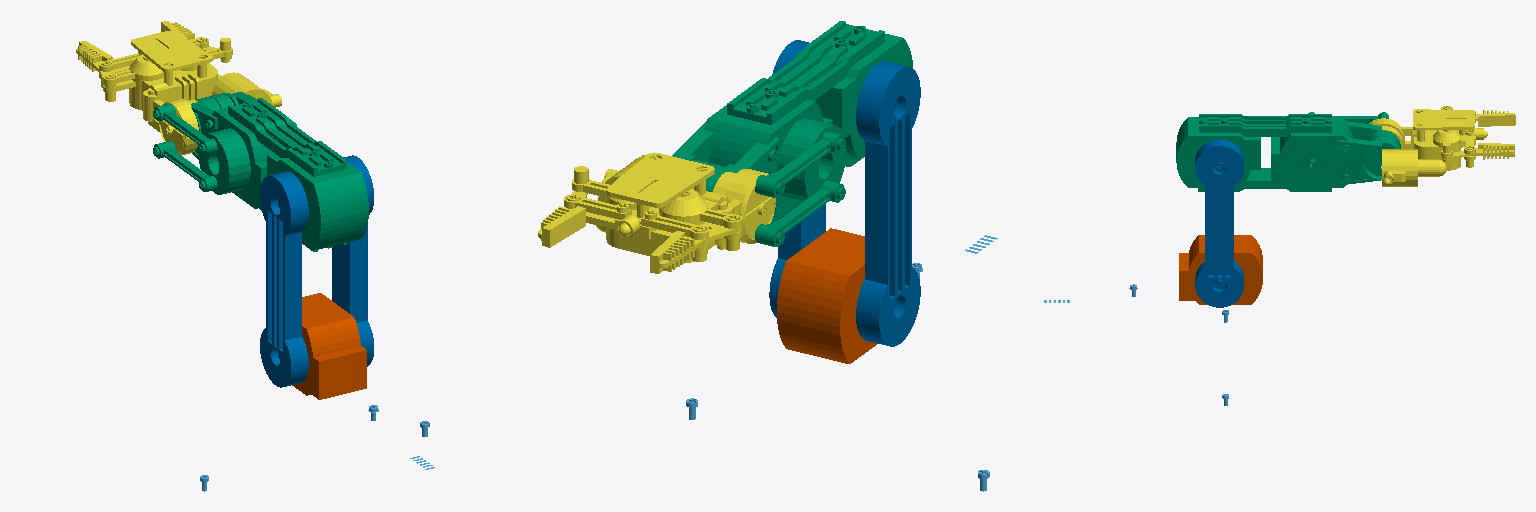
--- Facts derived from the render (not from the file) ---
3 views of the same robot in one strip: view 1: azimuth 30°, elevation 25°; view 2: azimuth 150°, elevation 25°; view 3: azimuth 270°, elevation 25° (orthographic).
Robot: owi535 — 6 links, 5 joints (4 revolute, 1 fixed); root link World; default pose: all joints at 0.
Visible links, largest first — view 1: Elbow, Base, Wrist, Rotation; view 2: Elbow, Wrist, Base, Rotation, Model; view 3: Elbow, Wrist, Base, Rotation.
Boxes of the visible links, left/top/right/bottom form: Elbow: left=153, top=92, right=368, bottom=251; Base: left=260, top=155, right=373, bottom=387; Wrist: left=76, top=21, right=281, bottom=155; Rotation: left=292, top=293, right=366, bottom=399; Elbow: left=672, top=21, right=912, bottom=246; Wrist: left=538, top=152, right=775, bottom=273; Base: left=769, top=40, right=920, bottom=346; Rotation: left=777, top=228, right=876, bottom=363; Model: left=686, top=235, right=997, bottom=491; Elbow: left=1176, top=112, right=1400, bottom=191; Wrist: left=1369, top=106, right=1515, bottom=186; Base: left=1195, top=139, right=1243, bottom=307; Rotation: left=1179, top=235, right=1262, bottom=304.
Size in the robot's own frame: 14.29 by 32.75 by 18.68 metres.
72 mesh visuals loaded from 74 distinct referenced files (72 OBJ); not drawn: 2 (reference not matched to a file when rendering).

robot.urdf — owi535:
<?xml version="1.0" ?>
<robot name="owi535">

   <link name="World"/>
   <link name="Model">
      <visual>
         <origin rpy="0.0 -0.0 0.0" xyz="0.0 0.0 0.0"/>
         <geometry>
            <mesh filename="package://owi_35/urdf/Untitled-mesh.0.obj" scale="0.1 0.1 0.1"/>
         </geometry>
      </visual>
      <collision>
         <origin rpy="0.0 -0.0 0.0" xyz="0.0 0.0 0.0"/>
         <geometry>
            <mesh filename="package://owi_35/urdf/Untitled-mesh.0.obj" scale="0.1 0.1 0.1"/>
         </geometry>
      </collision>
      <visual>
         <origin rpy="0.0 -0.0 0.0" xyz="0.0 0.0 0.0"/>
         <geometry>
            <mesh filename="package://owi_35/urdf/Untitled_001-mesh.0.obj" scale="0.1 0.1 0.1"/>
         </geometry>
      </visual>
      <collision>
         <origin rpy="0.0 -0.0 0.0" xyz="0.0 0.0 0.0"/>
         <geometry>
            <mesh filename="package://owi_35/urdf/Untitled_001-mesh.0.obj" scale="0.1 0.1 0.1"/>
         </geometry>
      </collision>
      <visual>
         <origin rpy="0.0 -0.0 0.0" xyz="0.0 0.0 0.0"/>
         <geometry>
            <mesh filename="package://owi_35/urdf/Untitled_001-mesh.1.obj" scale="0.1 0.1 0.1"/>
         </geometry>
      </visual>
      <collision>
         <origin rpy="0.0 -0.0 0.0" xyz="0.0 0.0 0.0"/>
         <geometry>
            <mesh filename="package://owi_35/urdf/Untitled_001-mesh.1.obj" scale="0.1 0.1 0.1"/>
         </geometry>
      </collision>
      <visual>
         <origin rpy="0.0 -0.0 0.0" xyz="0.0 0.0 0.0"/>
         <geometry>
            <mesh filename="package://owi_35/urdf/Untitled_001-mesh.2.obj" scale="0.1 0.1 0.1"/>
         </geometry>
      </visual>
      <collision>
         <origin rpy="0.0 -0.0 0.0" xyz="0.0 0.0 0.0"/>
         <geometry>
            <mesh filename="package://owi_35/urdf/Untitled_001-mesh.2.obj" scale="0.1 0.1 0.1"/>
         </geometry>
      </collision>
      <visual>
         <origin rpy="0.0 -0.0 0.0" xyz="0.0 0.0 0.0"/>
         <geometry>
            <mesh filename="package://owi_35/urdf/Untitled_001-mesh.3.obj" scale="0.1 0.1 0.1"/>
         </geometry>
      </visual>
      <collision>
         <origin rpy="0.0 -0.0 0.0" xyz="0.0 0.0 0.0"/>
         <geometry>
            <mesh filename="package://owi_35/urdf/Untitled_001-mesh.3.obj" scale="0.1 0.1 0.1"/>
         </geometry>
      </collision>
      <visual>
         <origin rpy="0.0 -0.0 0.0" xyz="0.0 0.0 0.0"/>
         <geometry>
            <mesh filename="package://owi_35/urdf/Untitled_002-mesh.0.obj" scale="0.1 0.1 0.1"/>
         </geometry>
      </visual>
      <collision>
         <origin rpy="0.0 -0.0 0.0" xyz="0.0 0.0 0.0"/>
         <geometry>
            <mesh filename="package://owi_35/urdf/Untitled_002-mesh.0.obj" scale="0.1 0.1 0.1"/>
         </geometry>
      </collision>
      <visual>
         <origin rpy="0.0 -0.0 0.0" xyz="0.0 0.0 0.0"/>
         <geometry>
            <mesh filename="package://owi_35/urdf/Untitled_003-mesh.0.obj" scale="0.1 0.1 0.1"/>
         </geometry>
      </visual>
      <collision>
         <origin rpy="0.0 -0.0 0.0" xyz="0.0 0.0 0.0"/>
         <geometry>
            <mesh filename="package://owi_35/urdf/Untitled_003-mesh.0.obj" scale="0.1 0.1 0.1"/>
         </geometry>
      </collision>
      <inertial>
            <mass value="50" />
            
<inertia ixx="0.001" ixy="0" ixz="0" iyy="0.001" iyz="0" izz="0.001" />      </inertial>
   </link>
   <link name="Elbow">
      <visual>
         <origin rpy="-3.97231980642232e-09 -0.0 0.0" xyz="46.62923049926758 -157.33990478515625 23.237260818481445"/>
         <geometry>
            <mesh filename="package://owi_35/urdf/Untitled_004-mesh.0.obj" scale="0.1 0.1 0.1"/>
         </geometry>
      </visual>
      <collision>
         <origin rpy="-3.97231980642232e-09 -0.0 0.0" xyz="46.62923049926758 -157.33990478515625 23.237260818481445"/>
         <geometry>
            <mesh filename="package://owi_35/urdf/Untitled_004-mesh.0.obj" scale="0.1 0.1 0.1"/>
         </geometry>
      </collision>
      <visual>
         <origin rpy="-3.97231980642232e-09 -0.0 0.0" xyz="46.62923049926758 -157.33990478515625 23.237260818481445"/>
         <geometry>
            <mesh filename="package://owi_35/urdf/Untitled_005-mesh.0.obj" scale="0.1 0.1 0.1"/>
         </geometry>
      </visual>
      <collision>
         <origin rpy="-3.97231980642232e-09 -0.0 0.0" xyz="46.62923049926758 -157.33990478515625 23.237260818481445"/>
         <geometry>
            <mesh filename="package://owi_35/urdf/Untitled_005-mesh.0.obj" scale="0.1 0.1 0.1"/>
         </geometry>
      </collision>
      <visual>
         <origin rpy="-3.97231980642232e-09 -0.0 0.0" xyz="46.62923049926758 -157.33990478515625 23.237260818481445"/>
         <geometry>
            <mesh filename="package://owi_35/urdf/Untitled_006-mesh.0.obj" scale="0.1 0.1 0.1"/>
         </geometry>
      </visual>
      <collision>
         <origin rpy="-3.97231980642232e-09 -0.0 0.0" xyz="46.62923049926758 -157.33990478515625 23.237260818481445"/>
         <geometry>
            <mesh filename="package://owi_35/urdf/Untitled_006-mesh.0.obj" scale="0.1 0.1 0.1"/>
         </geometry>
      </collision>
      <visual>
         <origin rpy="-3.97231980642232e-09 -0.0 0.0" xyz="46.62923049926758 -157.33990478515625 23.237260818481445"/>
         <geometry>
            <mesh filename="package://owi_35/urdf/Untitled_007-mesh.0.obj" scale="0.1 0.1 0.1"/>
         </geometry>
      </visual>
      <collision>
         <origin rpy="-3.97231980642232e-09 -0.0 0.0" xyz="46.62923049926758 -157.33990478515625 23.237260818481445"/>
         <geometry>
            <mesh filename="package://owi_35/urdf/Untitled_007-mesh.0.obj" scale="0.1 0.1 0.1"/>
         </geometry>
      </collision>
      <visual>
         <origin rpy="-3.97231980642232e-09 -0.0 0.0" xyz="46.62923049926758 -157.33990478515625 23.237260818481445"/>
         <geometry>
            <mesh filename="package://owi_35/urdf/Untitled_008-mesh.0.obj" scale="0.1 0.1 0.1"/>
         </geometry>
      </visual>
      <collision>
         <origin rpy="-3.97231980642232e-09 -0.0 0.0" xyz="46.62923049926758 -157.33990478515625 23.237260818481445"/>
         <geometry>
            <mesh filename="package://owi_35/urdf/Untitled_008-mesh.0.obj" scale="0.1 0.1 0.1"/>
         </geometry>
      </collision>
      <visual>
         <origin rpy="-3.97231980642232e-09 -0.0 0.0" xyz="46.62923049926758 -157.33990478515625 23.237260818481445"/>
         <geometry>
            <mesh filename="package://owi_35/urdf/Untitled_009-mesh.0.obj" scale="0.1 0.1 0.1"/>
         </geometry>
      </visual>
      <collision>
         <origin rpy="-3.97231980642232e-09 -0.0 0.0" xyz="46.62923049926758 -157.33990478515625 23.237260818481445"/>
         <geometry>
            <mesh filename="package://owi_35/urdf/Untitled_009-mesh.0.obj" scale="0.1 0.1 0.1"/>
         </geometry>
      </collision>
      <visual>
         <origin rpy="-3.97231980642232e-09 -0.0 0.0" xyz="46.62923049926758 -157.33990478515625 23.237260818481445"/>
         <geometry>
            <mesh filename="package://owi_35/urdf/Untitled_010-mesh.0.obj" scale="0.1 0.1 0.1"/>
         </geometry>
      </visual>
      <collision>
         <origin rpy="-3.97231980642232e-09 -0.0 0.0" xyz="46.62923049926758 -157.33990478515625 23.237260818481445"/>
         <geometry>
            <mesh filename="package://owi_35/urdf/Untitled_010-mesh.0.obj" scale="0.1 0.1 0.1"/>
         </geometry>
      </collision>
      <visual>
         <origin rpy="-3.97231980642232e-09 -0.0 0.0" xyz="46.62923049926758 -157.33990478515625 23.237260818481445"/>
         <geometry>
            <mesh filename="package://owi_35/urdf/Untitled_011-mesh.0.obj" scale="0.1 0.1 0.1"/>
         </geometry>
      </visual>
      <collision>
         <origin rpy="-3.97231980642232e-09 -0.0 0.0" xyz="46.62923049926758 -157.33990478515625 23.237260818481445"/>
         <geometry>
            <mesh filename="package://owi_35/urdf/Untitled_011-mesh.0.obj" scale="0.1 0.1 0.1"/>
         </geometry>
      </collision>
      <visual>
         <origin rpy="-7.94463961284464e-09 -0.0 0.0" xyz="46.62922668457031 -157.33990478515625 23.237262725830078"/>
         <geometry>
            <mesh filename="package://owi_35/urdf/Untitled_040-mesh.0.obj" scale="0.1 0.1 0.1"/>
         </geometry>
      </visual>
      <collision>
         <origin rpy="-7.94463961284464e-09 -0.0 0.0" xyz="46.62922668457031 -157.33990478515625 23.237262725830078"/>
         <geometry>
            <mesh filename="package://owi_35/urdf/Untitled_040-mesh.0.obj" scale="0.1 0.1 0.1"/>
         </geometry>
      </collision>
      <visual>
         <origin rpy="-7.94463961284464e-09 -0.0 0.0" xyz="46.62922668457031 -157.33990478515625 23.237262725830078"/>
         <geometry>
            <mesh filename="package://owi_35/urdf/Untitled_041-mesh.0.obj" scale="0.1 0.1 0.1"/>
         </geometry>
      </visual>
      <collision>
         <origin rpy="-7.94463961284464e-09 -0.0 0.0" xyz="46.62922668457031 -157.33990478515625 23.237262725830078"/>
         <geometry>
            <mesh filename="package://owi_35/urdf/Untitled_041-mesh.0.obj" scale="0.1 0.1 0.1"/>
         </geometry>
      </collision>
      <visual>
         <origin rpy="-7.94463961284464e-09 -0.0 0.0" xyz="46.62922668457031 -157.33990478515625 23.237262725830078"/>
         <geometry>
            <mesh filename="package://owi_35/urdf/Untitled_042-mesh.0.obj" scale="0.1 0.1 0.1"/>
         </geometry>
      </visual>
      <collision>
         <origin rpy="-7.94463961284464e-09 -0.0 0.0" xyz="46.62922668457031 -157.33990478515625 23.237262725830078"/>
         <geometry>
            <mesh filename="package://owi_35/urdf/Untitled_042-mesh.0.obj" scale="0.1 0.1 0.1"/>
         </geometry>
      </collision>
      <visual>
         <origin rpy="-7.94463961284464e-09 -0.0 0.0" xyz="46.62922668457031 -157.33990478515625 23.237262725830078"/>
         <geometry>
            <mesh filename="package://owi_35/urdf/Untitled_043-mesh.0.obj" scale="0.1 0.1 0.1"/>
         </geometry>
      </visual>
      <collision>
         <origin rpy="-7.94463961284464e-09 -0.0 0.0" xyz="46.62922668457031 -157.33990478515625 23.237262725830078"/>
         <geometry>
            <mesh filename="package://owi_35/urdf/Untitled_043-mesh.0.obj" scale="0.1 0.1 0.1"/>
         </geometry>
      </collision>
      <visual>
         <origin rpy="-7.94463961284464e-09 -0.0 0.0" xyz="46.62922668457031 -157.33990478515625 23.237262725830078"/>
         <geometry>
            <mesh filename="package://owi_35/urdf/Untitled_044-mesh.0.obj" scale="0.1 0.1 0.1"/>
         </geometry>
      </visual>
      <collision>
         <origin rpy="-7.94463961284464e-09 -0.0 0.0" xyz="46.62922668457031 -157.33990478515625 23.237262725830078"/>
         <geometry>
            <mesh filename="package://owi_35/urdf/Untitled_044-mesh.0.obj" scale="0.1 0.1 0.1"/>
         </geometry>
      </collision>
      <visual>
         <origin rpy="-7.94463961284464e-09 -0.0 0.0" xyz="46.62922668457031 -157.33990478515625 23.237262725830078"/>
         <geometry>
            <mesh filename="package://owi_35/urdf/Untitled_045-mesh.0.obj" scale="0.1 0.1 0.1"/>
         </geometry>
      </visual>
      <collision>
         <origin rpy="-7.94463961284464e-09 -0.0 0.0" xyz="46.62922668457031 -157.33990478515625 23.237262725830078"/>
         <geometry>
            <mesh filename="package://owi_35/urdf/Untitled_045-mesh.0.obj" scale="0.1 0.1 0.1"/>
         </geometry>
      </collision>
      <visual>
         <origin rpy="-7.94463961284464e-09 -0.0 0.0" xyz="46.62922668457031 -157.33990478515625 23.237262725830078"/>
         <geometry>
            <mesh filename="package://owi_35/urdf/Untitled_046-mesh.0.obj" scale="0.1 0.1 0.1"/>
         </geometry>
      </visual>
      <collision>
         <origin rpy="-7.94463961284464e-09 -0.0 0.0" xyz="46.62922668457031 -157.33990478515625 23.237262725830078"/>
         <geometry>
            <mesh filename="package://owi_35/urdf/Untitled_046-mesh.0.obj" scale="0.1 0.1 0.1"/>
         </geometry>
      </collision>
      <visual>
         <origin rpy="-7.94463961284464e-09 -0.0 0.0" xyz="46.62922668457031 -157.33990478515625 23.237262725830078"/>
         <geometry>
            <mesh filename="package://owi_35/urdf/Untitled_047-mesh.0.obj" scale="0.1 0.1 0.1"/>
         </geometry>
      </visual>
      <collision>
         <origin rpy="-7.94463961284464e-09 -0.0 0.0" xyz="46.62922668457031 -157.33990478515625 23.237262725830078"/>
         <geometry>
            <mesh filename="package://owi_35/urdf/Untitled_047-mesh.0.obj" scale="0.1 0.1 0.1"/>
         </geometry>
      </collision>
      <visual>
         <origin rpy="-7.94463961284464e-09 -0.0 0.0" xyz="46.62922668457031 -157.33990478515625 23.237262725830078"/>
         <geometry>
            <mesh filename="package://owi_35/urdf/Untitled_048-mesh.0.obj" scale="0.1 0.1 0.1"/>
         </geometry>
      </visual>
      <collision>
         <origin rpy="-7.94463961284464e-09 -0.0 0.0" xyz="46.62922668457031 -157.33990478515625 23.237262725830078"/>
         <geometry>
            <mesh filename="package://owi_35/urdf/Untitled_048-mesh.0.obj" scale="0.1 0.1 0.1"/>
         </geometry>
      </collision>
      <visual>
         <origin rpy="-7.94463961284464e-09 -0.0 0.0" xyz="46.62922668457031 -157.33990478515625 23.237262725830078"/>
         <geometry>
            <mesh filename="package://owi_35/urdf/Untitled_049-mesh.0.obj" scale="0.1 0.1 0.1"/>
         </geometry>
      </visual>
      <collision>
         <origin rpy="-7.94463961284464e-09 -0.0 0.0" xyz="46.62922668457031 -157.33990478515625 23.237262725830078"/>
         <geometry>
            <mesh filename="package://owi_35/urdf/Untitled_049-mesh.0.obj" scale="0.1 0.1 0.1"/>
         </geometry>
      </collision>
      <visual>
         <origin rpy="-7.94463961284464e-09 -0.0 0.0" xyz="46.62922668457031 -157.33990478515625 23.237262725830078"/>
         <geometry>
            <mesh filename="package://owi_35/urdf/Untitled_050-mesh.0.obj" scale="0.1 0.1 0.1"/>
         </geometry>
      </visual>
      <collision>
         <origin rpy="-7.94463961284464e-09 -0.0 0.0" xyz="46.62922668457031 -157.33990478515625 23.237262725830078"/>
         <geometry>
            <mesh filename="package://owi_35/urdf/Untitled_050-mesh.0.obj" scale="0.1 0.1 0.1"/>
         </geometry>
      </collision>
      <visual>
         <origin rpy="-7.94463961284464e-09 -0.0 0.0" xyz="46.62922668457031 -157.33990478515625 23.237262725830078"/>
         <geometry>
            <mesh filename="package://owi_35/urdf/Untitled_051-mesh.0.obj" scale="0.1 0.1 0.1"/>
         </geometry>
      </visual>
      <collision>
         <origin rpy="-7.94463961284464e-09 -0.0 0.0" xyz="46.62922668457031 -157.33990478515625 23.237262725830078"/>
         <geometry>
            <mesh filename="package://owi_35/urdf/Untitled_051-mesh.0.obj" scale="0.1 0.1 0.1"/>
         </geometry>
      </collision>
      <visual>
         <origin rpy="-7.94463961284464e-09 -0.0 0.0" xyz="46.62922668457031 -157.33990478515625 23.237262725830078"/>
         <geometry>
            <mesh filename="package://owi_35/urdf/Untitled_052-mesh.0.obj" scale="0.1 0.1 0.1"/>
         </geometry>
      </visual>
      <collision>
         <origin rpy="-7.94463961284464e-09 -0.0 0.0" xyz="46.62922668457031 -157.33990478515625 23.237262725830078"/>
         <geometry>
            <mesh filename="package://owi_35/urdf/Untitled_052-mesh.0.obj" scale="0.1 0.1 0.1"/>
         </geometry>
      </collision>
      <visual>
         <origin rpy="-7.94463961284464e-09 -0.0 0.0" xyz="46.62922668457031 -157.33990478515625 23.237262725830078"/>
         <geometry>
            <mesh filename="package://owi_35/urdf/Untitled_053-mesh.0.obj" scale="0.1 0.1 0.1"/>
         </geometry>
      </visual>
      <collision>
         <origin rpy="-7.94463961284464e-09 -0.0 0.0" xyz="46.62922668457031 -157.33990478515625 23.237262725830078"/>
         <geometry>
            <mesh filename="package://owi_35/urdf/Untitled_053-mesh.0.obj" scale="0.1 0.1 0.1"/>
         </geometry>
      </collision>
      <visual>
         <origin rpy="-7.94463961284464e-09 -0.0 0.0" xyz="46.62922668457031 -157.33990478515625 23.237262725830078"/>
         <geometry>
            <mesh filename="package://owi_35/urdf/Untitled_054-mesh.0.obj" scale="0.1 0.1 0.1"/>
         </geometry>
      </visual>
      <collision>
         <origin rpy="-7.94463961284464e-09 -0.0 0.0" xyz="46.62922668457031 -157.33990478515625 23.237262725830078"/>
         <geometry>
            <mesh filename="package://owi_35/urdf/Untitled_054-mesh.0.obj" scale="0.1 0.1 0.1"/>
         </geometry>
      </collision>
      <visual>
         <origin rpy="-7.94463961284464e-09 -0.0 0.0" xyz="46.62922668457031 -157.33990478515625 23.237262725830078"/>
         <geometry>
            <mesh filename="package://owi_35/urdf/Untitled_055-mesh.0.obj" scale="0.1 0.1 0.1"/>
         </geometry>
      </visual>
      <collision>
         <origin rpy="-7.94463961284464e-09 -0.0 0.0" xyz="46.62922668457031 -157.33990478515625 23.237262725830078"/>
         <geometry>
            <mesh filename="package://owi_35/urdf/Untitled_055-mesh.0.obj" scale="0.1 0.1 0.1"/>
         </geometry>
      </collision>
      <visual>
         <origin rpy="-7.94463961284464e-09 -0.0 0.0" xyz="46.62922668457031 -157.33990478515625 23.237262725830078" />
         <geometry>
            <mesh filename="package://owi_35/urdf/Untitled_056-mesh.0.obj" scale="0.1 0.1 0.1"/>
         </geometry>
      </visual>
      <collision>
         <origin rpy="-7.94463961284464e-09 -0.0 0.0" xyz="46.62922668457031 -157.33990478515625 23.237262725830078"/>
         <geometry>
            <mesh filename="package://owi_35/urdf/Untitled_056-mesh.0.obj" scale="0.1 0.1 0.1"/>
         </geometry>
      </collision>
      <visual>
         <origin rpy="-7.94463961284464e-09 -0.0 0.0" xyz="46.62922668457031 -157.33990478515625 23.237262725830078"/>
         <geometry>
            <mesh filename="package://owi_35/urdf/Untitled_057-mesh.0.obj" scale="0.1 0.1 0.1"/>
         </geometry>
      </visual>
      <collision>
         <origin rpy="-7.94463961284464e-09 -0.0 0.0" xyz="46.62922668457031 -157.33990478515625 23.237262725830078"/>
         <geometry>
            <mesh filename="package://owi_35/urdf/Untitled_057-mesh.0.obj" scale="0.1 0.1 0.1"/>
         </geometry>
      </collision>
      <inertial>
            <mass value="5" />
            
<inertia ixx="0.001" ixy="0" ixz="0" iyy="0.001" iyz="0" izz="0.001" />       </inertial>
   </link>
   <link name="Wrist">
      <visual>
         <origin rpy="4.371139894487894e-08 -0.0 0.0" xyz="45.20729064941406 -156.94960021972656 136.8153076171875"/>
         <geometry>
            <mesh filename="package://owi_35/urdf/Untitled_012-mesh.0.obj" scale="0.1 0.1 0.1"/>
         </geometry>
      </visual>
      <collision>
         <origin rpy="4.371139894487894e-08 -0.0 0.0" xyz="45.20729064941406 -156.94960021972656 136.8153076171875"/>
         <geometry>
            <mesh filename="package://owi_35/urdf/Untitled_012-mesh.0.obj" scale="0.1 0.1 0.1"/>
         </geometry>
      </collision>
      <visual>
         <origin rpy="4.371139894487894e-08 -0.0 0.0" xyz="45.20729064941406 -156.94960021972656 136.8153076171875"/>
         <geometry>
            <mesh filename="package://owi_35/urdf/Untitled_013-mesh.0.obj" scale="0.1 0.1 0.1"/>
         </geometry>
      </visual>
      <collision>
         <origin rpy="4.371139894487894e-08 -0.0 0.0" xyz="45.20729064941406 -156.94960021972656 136.8153076171875"/>
         <geometry>
            <mesh filename="package://owi_35/urdf/Untitled_013-mesh.0.obj" scale="0.1 0.1 0.1"/>
         </geometry>
      </collision>
      <visual>
         <origin rpy="4.371139894487894e-08 -0.0 0.0" xyz="45.20729064941406 -156.94960021972656 136.8153076171875"/>
         <geometry>
            <mesh filename="package://owi_35/urdf/Untitled_014-mesh.0.obj" scale="0.1 0.1 0.1"/>
         </geometry>
      </visual>
      <collision>
         <origin rpy="4.371139894487894e-08 -0.0 0.0" xyz="45.20729064941406 -156.94960021972656 136.8153076171875"/>
         <geometry>
            <mesh filename="package://owi_35/urdf/Untitled_014-mesh.0.obj" scale="0.1 0.1 0.1"/>
         </geometry>
      </collision>
      <visual>
         <origin rpy="4.371139894487894e-08 -0.0 0.0" xyz="45.20729064941406 -156.94960021972656 136.8153076171875"/>
         <geometry>
            <mesh filename="package://owi_35/urdf/Untitled_015-mesh.0.obj" scale="0.1 0.1 0.1"/>
         </geometry>
      </visual>
      <collision>
         <origin rpy="4.371139894487894e-08 -0.0 0.0" xyz="45.20729064941406 -156.94960021972656 136.8153076171875"/>
         <geometry>
            <mesh filename="package://owi_35/urdf/Untitled_015-mesh.0.obj" scale="0.1 0.1 0.1"/>
         </geometry>
      </collision>
      <visual>
         <origin rpy="4.371139894487894e-08 -0.0 0.0" xyz="45.20729064941406 -156.94960021972656 136.8153076171875"/>
         <geometry>
            <mesh filename="package://owi_35/urdf/Untitled_016-mesh.0.obj" scale="0.1 0.1 0.1"/>
         </geometry>
      </visual>
      <collision>
         <origin rpy="4.371139894487894e-08 -0.0 0.0" xyz="45.20729064941406 -156.94960021972656 136.8153076171875"/>
         <geometry>
            <mesh filename="package://owi_35/urdf/Untitled_016-mesh.0.obj" scale="0.1 0.1 0.1"/>
         </geometry>
      </collision>
      <visual>
         <origin rpy="4.371139894487894e-08 -0.0 0.0" xyz="45.20729064941406 -156.94960021972656 136.8153076171875"/>
         <geometry>
            <mesh filename="package://owi_35/urdf/Untitled_017-mesh.0.obj" scale="0.1 0.1 0.1"/>
         </geometry>
      </visual>
      <collision>
         <origin rpy="4.371139894487894e-08 -0.0 0.0" xyz="45.20729064941406 -156.94960021972656 136.8153076171875"/>
         <geometry>
            <mesh filename="package://owi_35/urdf/Untitled_017-mesh.0.obj" scale="0.1 0.1 0.1"/>
         </geometry>
      </collision>
      <visual>
         <origin rpy="4.371139894487894e-08 -0.0 0.0" xyz="45.20729064941406 -156.94960021972656 136.8153076171875"/>
         <geometry>
            <mesh filename="package://owi_35/urdf/Untitled_018-mesh.0.obj" scale="0.1 0.1 0.1"/>
         </geometry>
      </visual>
      <collision>
         <origin rpy="4.371139894487894e-08 -0.0 0.0" xyz="45.20729064941406 -156.94960021972656 136.8153076171875"/>
         <geometry>
            <mesh filename="package://owi_35/urdf/Untitled_018-mesh.0.obj" scale="0.1 0.1 0.1"/>
         </geometry>
      </collision>
      <visual>
         <origin rpy="4.371139894487894e-08 -0.0 0.0" xyz="45.20729064941406 -156.94960021972656 136.8153076171875"/>
         <geometry>
            <mesh filename="package://owi_35/urdf/Untitled_019-mesh.0.obj" scale="0.1 0.1 0.1"/>
         </geometry>
      </visual>
      <collision>
         <origin rpy="4.371139894487894e-08 -0.0 0.0" xyz="45.20729064941406 -156.94960021972656 136.8153076171875"/>
         <geometry>
            <mesh filename="package://owi_35/urdf/Untitled_019-mesh.0.obj" scale="0.1 0.1 0.1"/>
         </geometry>
      </collision>
      <visual>
         <origin rpy="4.371139894487894e-08 -0.0 0.0" xyz="45.20729064941406 -156.94960021972656 136.8153076171875"/>
         <geometry>
            <mesh filename="package://owi_35/urdf/Untitled_019-mesh.1.obj" scale="0.1 0.1 0.1"/>
         </geometry>
      </visual>
      <collision>
         <origin rpy="4.371139894487894e-08 -0.0 0.0" xyz="45.20729064941406 -156.94960021972656 136.8153076171875"/>
         <geometry>
            <mesh filename="package://owi_35/urdf/Untitled_019-mesh.1.obj" scale="0.1 0.1 0.1"/>
         </geometry>
      </collision>
      <visual>
         <origin rpy="4.371139894487894e-08 -0.0 0.0" xyz="45.20729064941406 -156.94960021972656 136.8153076171875"/>
         <geometry>
            <mesh filename="package://owi_35/urdf/Untitled_019-mesh.2.obj" scale="0.1 0.1 0.1"/>
         </geometry>
      </visual>
      <collision>
         <origin rpy="4.371139894487894e-08 -0.0 0.0" xyz="45.20729064941406 -156.94960021972656 136.8153076171875"/>
         <geometry>
            <mesh filename="package://owi_35/urdf/Untitled_019-mesh.2.obj" scale="0.1 0.1 0.1"/>
         </geometry>
      </collision>
      <visual>
         <origin rpy="4.371139894487894e-08 -0.0 0.0" xyz="45.20729064941406 -156.94960021972656 136.8153076171875"/>
         <geometry>
            <mesh filename="package://owi_35/urdf/Untitled_020-mesh.0.obj" scale="0.1 0.1 0.1"/>
         </geometry>
      </visual>
      <collision>
         <origin rpy="4.371139894487894e-08 -0.0 0.0" xyz="45.20729064941406 -156.94960021972656 136.8153076171875"/>
         <geometry>
            <mesh filename="package://owi_35/urdf/Untitled_020-mesh.0.obj" scale="0.1 0.1 0.1"/>
         </geometry>
      </collision>
      <visual>
         <origin rpy="4.371139894487894e-08 -0.0 0.0" xyz="45.20729064941406 -156.94960021972656 136.8153076171875"/>
         <geometry>
            <mesh filename="package://owi_35/urdf/Untitled_021-mesh.0.obj" scale="0.1 0.1 0.1"/>
         </geometry>
      </visual>
      <collision>
         <origin rpy="4.371139894487894e-08 -0.0 0.0" xyz="45.20729064941406 -156.94960021972656 136.8153076171875"/>
         <geometry>
            <mesh filename="package://owi_35/urdf/Untitled_021-mesh.0.obj" scale="0.1 0.1 0.1"/>
         </geometry>
      </collision>
      <visual>
         <origin rpy="4.371139894487894e-08 -0.0 0.0" xyz="45.20729064941406 -156.94960021972656 136.8153076171875"/>
         <geometry>
            <mesh filename="package://owi_35/urdf/Untitled_022-mesh.0.obj" scale="0.1 0.1 0.1"/>
         </geometry>
      </visual>
      <collision>
         <origin rpy="4.371139894487894e-08 -0.0 0.0" xyz="45.20729064941406 -156.94960021972656 136.8153076171875"/>
         <geometry>
            <mesh filename="package://owi_35/urdf/Untitled_022-mesh.0.obj" scale="0.1 0.1 0.1"/>
         </geometry>
      </collision>
      <visual>
         <origin rpy="4.371139894487894e-08 -0.0 0.0" xyz="45.20729064941406 -156.94960021972656 136.8153076171875"/>
         <geometry>
            <mesh filename="package://owi_35/urdf/Untitled_022-mesh.1.obj" scale="0.1 0.1 0.1"/>
         </geometry>
      </visual>
      <collision>
         <origin rpy="4.371139894487894e-08 -0.0 0.0" xyz="45.20729064941406 -156.94960021972656 136.8153076171875"/>
         <geometry>
            <mesh filename="package://owi_35/urdf/Untitled_022-mesh.1.obj" scale="0.1 0.1 0.1"/>
         </geometry>
      </collision>
      <visual>
         <origin rpy="4.371139894487894e-08 -0.0 0.0" xyz="45.20729064941406 -156.94960021972656 136.8153076171875"/>
         <geometry>
            <mesh filename="package://owi_35/urdf/Untitled_022-mesh.2.obj" scale="0.1 0.1 0.1"/>
         </geometry>
      </visual>
      <collision>
         <origin rpy="4.371139894487894e-08 -0.0 0.0" xyz="45.20729064941406 -156.94960021972656 136.8153076171875"/>
         <geometry>
            <mesh filename="package://owi_35/urdf/Untitled_022-mesh.2.obj" scale="0.1 0.1 0.1"/>
         </geometry>
      </collision>
      <visual>
         <origin rpy="4.371139894487894e-08 -0.0 0.0" xyz="45.20729064941406 -156.94960021972656 136.8153076171875"/>
         <geometry>
            <mesh filename="package://owi_35/urdf/Untitled_023-mesh.0.obj" scale="0.1 0.1 0.1"/>
         </geometry>
      </visual>
      <collision>
         <origin rpy="4.371139894487894e-08 -0.0 0.0" xyz="45.20729064941406 -156.94960021972656 136.8153076171875"/>
         <geometry>
            <mesh filename="package://owi_35/urdf/Untitled_023-mesh.0.obj" scale="0.1 0.1 0.1"/>
         </geometry>
      </collision>
      <visual>
         <origin rpy="4.371139894487894e-08 -0.0 0.0" xyz="45.20729064941406 -156.94960021972656 136.8153076171875"/>
         <geometry>
            <mesh filename="package://owi_35/urdf/Untitled_024-mesh.0.obj" scale="0.1 0.1 0.1"/>
         </geometry>
      </visual>
      <collision>
         <origin rpy="4.371139894487894e-08 -0.0 0.0" xyz="45.20729064941406 -156.94960021972656 136.8153076171875"/>
         <geometry>
            <mesh filename="package://owi_35/urdf/Untitled_024-mesh.0.obj" scale="0.1 0.1 0.1"/>
         </geometry>
      </collision>
      <visual>
         <origin rpy="4.371139894487894e-08 -0.0 0.0" xyz="45.20729064941406 -156.94960021972656 136.8153076171875"/>
         <geometry>
            <mesh filename="package://owi_35/urdf/Untitled_025-mesh.0.obj" scale="0.1 0.1 0.1"/>
         </geometry>
      </visual>
      <collision>
         <origin rpy="4.371139894487894e-08 -0.0 0.0" xyz="45.20729064941406 -156.94960021972656 136.8153076171875"/>
         <geometry>
            <mesh filename="package://owi_35/urdf/Untitled_025-mesh.0.obj" scale="0.1 0.1 0.1"/>
         </geometry>
      </collision>
      <visual>
         <origin rpy="4.371139894487894e-08 -0.0 0.0" xyz="45.20729064941406 -156.94960021972656 136.8153076171875"/>
         <geometry>
            <mesh filename="package://owi_35/urdf/Untitled_026-mesh.0.obj" scale="0.1 0.1 0.1"/>
         </geometry>
      </visual>
      <collision>
         <origin rpy="4.371139894487894e-08 -0.0 0.0" xyz="45.20729064941406 -156.94960021972656 136.8153076171875"/>
         <geometry>
            <mesh filename="package://owi_35/urdf/Untitled_026-mesh.0.obj" scale="0.1 0.1 0.1"/>
         </geometry>
      </collision>
      <visual>
         <origin rpy="4.371139894487894e-08 -0.0 0.0" xyz="45.20729064941406 -156.94960021972656 136.8153076171875"/>
         <geometry>
            <mesh filename="package://owi_35/urdf/Untitled_026-mesh.1.obj" scale="0.1 0.1 0.1"/>
         </geometry>
      </visual>
      <collision>
         <origin rpy="4.371139894487894e-08 -0.0 0.0" xyz="45.20729064941406 -156.94960021972656 136.8153076171875"/>
         <geometry>
            <mesh filename="package://owi_35/urdf/Untitled_026-mesh.1.obj" scale="0.1 0.1 0.1"/>
         </geometry>
      </collision>
      <visual>
         <origin rpy="4.371139894487894e-08 -0.0 0.0" xyz="45.20729064941406 -156.94960021972656 136.8153076171875"/>
         <geometry>
            <mesh filename="package://owi_35/urdf/Untitled_027-mesh.0.obj" scale="0.1 0.1 0.1"/>
         </geometry>
      </visual>
      <collision>
         <origin rpy="4.371139894487894e-08 -0.0 0.0" xyz="45.20729064941406 -156.94960021972656 136.8153076171875"/>
         <geometry>
            <mesh filename="package://owi_35/urdf/Untitled_027-mesh.0.obj" scale="0.1 0.1 0.1"/>
         </geometry>
      </collision>
      <visual>
         <origin rpy="4.371139894487894e-08 -0.0 0.0" xyz="45.20729064941406 -156.94960021972656 136.8153076171875"/>
         <geometry>
            <mesh filename="package://owi_35/urdf/Untitled_028-mesh.0.obj" scale="0.1 0.1 0.1"/>
         </geometry>
      </visual>
      <collision>
         <origin rpy="4.371139894487894e-08 -0.0 0.0" xyz="45.20729064941406 -156.94960021972656 136.8153076171875"/>
         <geometry>
            <mesh filename="package://owi_35/urdf/Untitled_028-mesh.0.obj" scale="0.1 0.1 0.1"/>
         </geometry>
      </collision>
      <visual>
         <origin rpy="4.371139894487894e-08 -0.0 0.0" xyz="45.20729064941406 -156.94960021972656 136.8153076171875"/>
         <geometry>
            <mesh filename="package://owi_35/urdf/Untitled_029-mesh.0.obj" scale="0.1 0.1 0.1"/>
         </geometry>
      </visual>
      <collision>
         <origin rpy="4.371139894487894e-08 -0.0 0.0" xyz="45.20729064941406 -156.94960021972656 136.8153076171875"/>
         <geometry>
            <mesh filename="package://owi_35/urdf/Untitled_029-mesh.0.obj" scale="0.1 0.1 0.1"/>
         </geometry>
      </collision>
      <visual>
         <origin rpy="4.371139894487894e-08 -0.0 0.0" xyz="45.20729064941406 -156.94960021972656 136.8153076171875"/>
         <geometry>
            <mesh filename="package://owi_35/urdf/Untitled_030-mesh.0.obj" scale="0.1 0.1 0.1"/>
         </geometry>
      </visual>
      <collision>
         <origin rpy="4.371139894487894e-08 -0.0 0.0" xyz="45.20729064941406 -156.94960021972656 136.8153076171875"/>
         <geometry>
            <mesh filename="package://owi_35/urdf/Untitled_030-mesh.0.obj" scale="0.1 0.1 0.1"/>
         </geometry>
      </collision>
      <visual>
         <origin rpy="4.371139894487894e-08 -0.0 0.0" xyz="45.20729064941406 -156.94960021972656 136.8153076171875"/>
         <geometry>
            <mesh filename="package://owi_35/urdf/Untitled_031-mesh.0.obj" scale="0.1 0.1 0.1"/>
         </geometry>
      </visual>
      <collision>
         <origin rpy="4.371139894487894e-08 -0.0 0.0" xyz="45.20729064941406 -156.94960021972656 136.8153076171875"/>
         <geometry>
            <mesh filename="package://owi_35/urdf/Untitled_031-mesh.0.obj" scale="0.1 0.1 0.1"/>
         </geometry>
      </collision>
      <visual>
         <origin rpy="4.371139894487894e-08 -0.0 0.0" xyz="45.20729064941406 -156.94960021972656 136.8153076171875"/>
         <geometry>
            <mesh filename="package://owi_35/urdf/Untitled_032-mesh.0.obj" scale="0.1 0.1 0.1"/>
         </geometry>
      </visual>
      <collision>
         <origin rpy="4.371139894487894e-08 -0.0 0.0" xyz="45.20729064941406 -156.94960021972656 136.8153076171875"/>
         <geometry>
            <mesh filename="package://owi_35/urdf/Untitled_032-mesh.0.obj" scale="0.1 0.1 0.1"/>
         </geometry>
      </collision>
      <visual>
         <origin rpy="4.371139894487894e-08 -0.0 0.0" xyz="45.20729064941406 -156.94960021972656 136.8153076171875"/>
         <geometry>
            <mesh filename="package://owi_35/urdf/Untitled_033-mesh.0.obj" scale="0.1 0.1 0.1"/>
         </geometry>
      </visual>
      <collision>
         <origin rpy="4.371139894487894e-08 -0.0 0.0" xyz="45.20729064941406 -156.94960021972656 136.8153076171875"/>
         <geometry>
            <mesh filename="package://owi_35/urdf/Untitled_033-mesh.0.obj" scale="0.1 0.1 0.1"/>
         </geometry>
      </collision>
      <visual>
         <origin rpy="4.371139894487894e-08 -0.0 0.0" xyz="45.20729064941406 -156.94960021972656 136.8153076171875"/>
         <geometry>
            <mesh filename="package://owi_35/urdf/Untitled_034-mesh.0.obj" scale="0.1 0.1 0.1"/>
         </geometry>
      </visual>
      <collision>
         <origin rpy="4.371139894487894e-08 -0.0 0.0" xyz="45.20729064941406 -156.94960021972656 136.8153076171875"/>
         <geometry>
            <mesh filename="package://owi_35/urdf/Untitled_034-mesh.0.obj" scale="0.1 0.1 0.1"/>
         </geometry>
      </collision>
      <visual>
         <origin rpy="4.371139894487894e-08 -0.0 0.0" xyz="45.20729064941406 -156.94960021972656 136.8153076171875"/>
         <geometry>
            <mesh filename="package://owi_35/urdf/Untitled_035-mesh.0.obj" scale="0.1 0.1 0.1"/>
         </geometry>
      </visual>
      <collision>
         <origin rpy="4.371139894487894e-08 -0.0 0.0" xyz="45.20729064941406 -156.94960021972656 136.8153076171875"/>
         <geometry>
            <mesh filename="package://owi_35/urdf/Untitled_035-mesh.0.obj" scale="0.1 0.1 0.1"/>
         </geometry>
      </collision>
      <visual>
         <origin rpy="4.371139894487894e-08 -0.0 0.0" xyz="45.20729064941406 -156.94960021972656 136.8153076171875"/>
         <geometry>
            <mesh filename="package://owi_35/urdf/Untitled_036-mesh.0.obj" scale="0.1 0.1 0.1"/>
         </geometry>
      </visual>
      <collision>
         <origin rpy="4.371139894487894e-08 -0.0 0.0" xyz="45.20729064941406 -156.94960021972656 136.8153076171875"/>
         <geometry>
            <mesh filename="package://owi_35/urdf/Untitled_036-mesh.0.obj" scale="0.1 0.1 0.1"/>
         </geometry>
      </collision>
      <visual>
         <origin rpy="4.371139894487894e-08 -0.0 0.0" xyz="45.20729064941406 -156.94960021972656 136.8153076171875"/>
         <geometry>
            <mesh filename="package://owi_35/urdf/Untitled_037-mesh.0.obj" scale="0.1 0.1 0.1"/>
         </geometry>
      </visual>
      <collision>
         <origin rpy="4.371139894487894e-08 -0.0 0.0" xyz="45.20729064941406 -156.94960021972656 136.8153076171875"/>
         <geometry>
            <mesh filename="package://owi_35/urdf/Untitled_037-mesh.0.obj" scale="0.1 0.1 0.1"/>
         </geometry>
      </collision>
      <visual>
         <origin rpy="4.371139894487894e-08 -0.0 0.0" xyz="45.20729064941406 -156.94960021972656 136.8153076171875"/>
         <geometry>
            <mesh filename="package://owi_35/urdf/Untitled_037-mesh.1.obj" scale="0.1 0.1 0.1"/>
         </geometry>
      </visual>
      <collision>
         <origin rpy="4.371139894487894e-08 -0.0 0.0" xyz="45.20729064941406 -156.94960021972656 136.8153076171875"/>
         <geometry>
            <mesh filename="package://owi_35/urdf/Untitled_037-mesh.1.obj" scale="0.1 0.1 0.1" />
         </geometry>
      </collision>
      <visual>
         <origin rpy="4.371139894487894e-08 -0.0 0.0" xyz="45.20729064941406 -156.94960021972656 136.8153076171875"/>
         <geometry>
            <mesh filename="package://owi_35/urdf/Untitled_038-mesh.0.obj" scale="0.1 0.1 0.1"/>
         </geometry>
      </visual>
      <collision>
         <origin rpy="4.371139894487894e-08 -0.0 0.0" xyz="45.20729064941406 -156.94960021972656 136.8153076171875"/>
         <geometry>
            <mesh filename="package://owi_35/urdf/Untitled_038-mesh.0.obj" scale="0.1 0.1 0.1"/>
         </geometry>
      </collision>
      <visual>
         <origin rpy="4.371139894487894e-08 -0.0 0.0" xyz="45.20729064941406 -156.94960021972656 136.8153076171875"/>
         <geometry>
            <mesh filename="package://owi_35/urdf/Untitled_039-mesh.0.obj" scale="0.1 0.1 0.1"/>
         </geometry>
      </visual>
      <collision>
         <origin rpy="4.371139894487894e-08 -0.0 0.0" xyz="45.20729064941406 -156.94960021972656 136.8153076171875"/>
         <geometry>
            <mesh filename="package://owi_35/urdf/Untitled_039-mesh.0.obj" scale="0.1 0.1 0.1"/>
         </geometry>
      </collision>
      <inertial>
           <mass value="0.5" />
            
<inertia ixx="0.001" ixy="0" ixz="0" iyy="0.001" iyz="0" izz="0.001" />      </inertial>
   </link>
   <link name="Base">
      <visual>
         <origin rpy="1.1128840071705781e-08 -0.0 0.0" xyz="45.207271575927734 -67.66277313232422 22.967529296875"/>
         <geometry>
            <mesh filename="package://owi_35/urdf/Untitled_058-mesh.0.obj" scale="0.1 0.1 0.1"/>
         </geometry>
      </visual>
      <collision>
         <origin rpy="1.1128840071705781e-08 -0.0 0.0" xyz="45.207271575927734 -67.66277313232422 22.967529296875"/>
         <geometry>
            <mesh filename="package://owi_35/urdf/Untitled_058-mesh.0.obj" scale="0.1 0.1 0.1"/>
         </geometry>
      </collision>
      <visual>
         <origin rpy="1.1128840071705781e-08 -0.0 0.0" xyz="45.207271575927734 -67.66277313232422 22.967529296875"/>
         <geometry>
            <mesh filename="package://owi_35/urdf/Untitled_059-mesh.0.obj" scale="0.1 0.1 0.1"/>
         </geometry>
      </visual>
      <collision>
         <origin rpy="1.1128840071705781e-08 -0.0 0.0" xyz="45.207271575927734 -67.66277313232422 22.967529296875"/>
         <geometry>
            <mesh filename="package://owi_35/urdf/Untitled_059-mesh.0.obj" scale="0.1 0.1 0.1"/>
         </geometry>
      </collision>
      <visual>
         <origin rpy="1.1128840071705781e-08 -0.0 0.0" xyz="45.207271575927734 -67.66277313232422 22.967529296875"/>
         <geometry>
            <mesh filename="package://owi_35/urdf/Untitled_060-mesh.0.obj" scale="0.1 0.1 0.1"/>
         </geometry>
      </visual>
      <collision>
         <origin rpy="1.1128840071705781e-08 -0.0 0.0" xyz="45.207271575927734 -67.66277313232422 22.967529296875"/>
         <geometry>
            <mesh filename="package://owi_35/urdf/Untitled_060-mesh.0.obj" scale="0.1 0.1 0.1"/>
         </geometry>
      </collision>
      <visual>
         <origin rpy="1.1128840071705781e-08 -0.0 0.0" xyz="45.207271575927734 -67.66277313232422 22.967529296875"/>
         <geometry>
            <mesh filename="package://owi_35/urdf/Untitled_061-mesh.0.obj" scale="0.1 0.1 0.1"/>
         </geometry>
      </visual>
      <collision>
         <origin rpy="1.1128840071705781e-08 -0.0 0.0" xyz="45.207271575927734 -67.66277313232422 22.967529296875"/>
         <geometry>
            <mesh filename="package://owi_35/urdf/Untitled_061-mesh.0.obj" scale="0.1 0.1 0.1"/>
         </geometry>
      </collision>
      <visual>
         <origin rpy="1.1128840071705781e-08 -0.0 0.0" xyz="45.207271575927734 -67.66277313232422 22.967529296875"/>
         <geometry>
            <mesh filename="package://owi_35/urdf/Untitled_062-mesh.0.obj" scale="0.1 0.1 0.1"/>
         </geometry>
      </visual>
      <collision>
         <origin rpy="1.1128840071705781e-08 -0.0 0.0" xyz="45.207271575927734 -67.66277313232422 22.967529296875"/>
         <geometry>
            <mesh filename="package://owi_35/urdf/Untitled_062-mesh.0.obj" scale="0.1 0.1 0.1"/>
         </geometry>
      </collision>
      <visual>
         <origin rpy="1.1128840071705781e-08 -0.0 0.0" xyz="45.207271575927734 -67.66277313232422 22.967529296875"/>
         <geometry>
            <mesh filename="package://owi_35/urdf/Untitled_063-mesh.0.obj" scale="0.1 0.1 0.1"/>
         </geometry>
      </visual>
      <collision>
         <origin rpy="1.1128840071705781e-08 -0.0 0.0" xyz="45.207271575927734 -67.66277313232422 22.967529296875"/>
         <geometry>
            <mesh filename="package://owi_35/urdf/Untitled_063-mesh.0.obj" scale="0.1 0.1 0.1"/>
         </geometry>
      </collision>
      <inertial>
           <mass value="5" />
            
<inertia ixx="0.001" ixy="0" ixz="0" iyy="0.001" iyz="0" izz="0.001" />   </inertial>
   </link>
   <link name="Rotation">
      <visual>
         <origin rpy="1.112884007170578e-08 -1.2086680101219856e-07 -3.1868600558481205e-07" xyz="45.94236755371094 -66.8334732055664 25.347610473632812"/>
         <geometry>
            <mesh filename="package://owi_35/urdf/Untitled_064-mesh.0.obj" scale="0.1 0.1 0.1"/>
         </geometry>
      </visual>
      <collision>
         <origin rpy="1.112884007170578e-08 -1.2086680101219856e-07 -3.1868600558481205e-07" xyz="45.94236755371094 -66.8334732055664 25.347610473632812"/>
         <geometry>
            <mesh filename="package://owi_35/urdf/Untitled_064-mesh.0.obj" scale="0.1 0.1 0.1"/>
         </geometry>
      </collision>
      <inertial>
            <mass value="30" />
            
<inertia ixx="0.001" ixy="0" ixz="0" iyy="0.001" iyz="0" izz="0.001" />    </inertial>
   </link>
   <joint name="World_Model" type="fixed">
      <parent link="World"/>
      <child link="Model"/>

      <origin rpy="1.5707963705062988 -0.0 0.0" xyz="0.0 0.0 0.0"/>
   </joint>
   <joint name="Model_Rotation" type="revolute">
      <parent link="Model"/>
      <child link="Rotation"/>

      <origin rpy="0.0 -0.0 0.0" xyz="-45.9423713684082 66.8334732055664 -25.347610473632812"/>
      <axis xyz="0 1 0"/>
      <limit effort="30" velocity="1.0" lower="-2.268928" upper="2.268928"/>
   </joint>
   <joint name="Rotation_Base" type="revolute">
      <parent link="Rotation"/>
      <child link="Base"/>

      <origin rpy="5.5644200358528906e-09 -6.043340050609917e-08 -1.5934300279241008e-07" xyz="0.7350807189941406 0.8293303847312927 2.3800790309906006"/>
      <axis xyz="1 0 0"/>
      <limit effort="30" velocity="1.0" lower="-1.570796" upper="1.047198"/>
   </joint>
   <joint name="Base_Elbow" type="revolute">
      <parent link="Base"/>

      <child link="Elbow"/>
      <origin rpy="5.5644200358528906e-09 -0.0 0.0" xyz="-1.42194402217865 89.6771011352539 -0.2697296142578125"/>
      <axis xyz="1 0 0"/>
      <limit effort="30" velocity="1.0" lower="-1.047198" upper="1.570796"/>
   </joint>
   <joint name="Elbow_Wrist" type="revolute">
      <parent link="Elbow"/>
      <child link="Wrist"/>

      <origin rpy="-3.97231980642232e-09 -0.0 0.0" xyz="1.4219470024108887 -0.3902587890625 -113.5781021118164"/>
      <axis xyz="1 0 0"/>
      <limit effort="30" velocity="1.0" lower="-0.785398" upper="0.785398"/>
   </joint>

   <transmission name="tran2">
      <type>transmission_interface/SimpleTransmission</type>
      <joint name="Model_Rotation">
   <hardwareInterface>hardware_interface/EffortJointInterface</hardwareInterface>
      </joint>
      <actuator name="motor1">
   <hardwareInterface>hardware_interface/EffortJointInterface</hardwareInterface>
   <mechanicalReduction>1</mechanicalReduction>
      </actuator>
    </transmission>

    <transmission name="tran3">
      <type>transmission_interface/SimpleTransmission</type>
      <joint name="Rotation_Base">
   <hardwareInterface>hardware_interface/EffortJointInterface</hardwareInterface>
      </joint>
      <actuator name="motor2">
   <hardwareInterface>hardware_interface/EffortJointInterface</hardwareInterface>
   <mechanicalReduction>1</mechanicalReduction>
      </actuator>
    </transmission>

    <transmission name="tran4">
      <type>transmission_interface/SimpleTransmission</type>
      <joint name="Base_Elbow">
   <hardwareInterface>hardware_interface/EffortJointInterface</hardwareInterface>
      </joint>
      <actuator name="motor3">
   <hardwareInterface>hardware_interface/EffortJointInterface</hardwareInterface>
   <mechanicalReduction>1</mechanicalReduction>
      </actuator>
    </transmission>

    <transmission name="tran5">
      <type>transmission_interface/SimpleTransmission</type>
      <joint name="Elbow_Wrist">
   <hardwareInterface>hardware_interface/EffortJointInterface</hardwareInterface>
      </joint>
      <actuator name="motor4">
   <hardwareInterface>hardware_interface/EffortJointInterface</hardwareInterface>
   <mechanicalReduction>1</mechanicalReduction>
      </actuator>
    </transmission>
    <gazebo>
<plugin filename="libgazebo_ros_control.so" name="gazebo_ros_control">
<robotNamespace>/owi535</robotNamespace>
<robotSimType>gazebo_ros_control/DefaultRobotHWSim</robotSimType>
<legacyModeNS>true</legacyModeNS>
</plugin>
</gazebo>

</robot>
